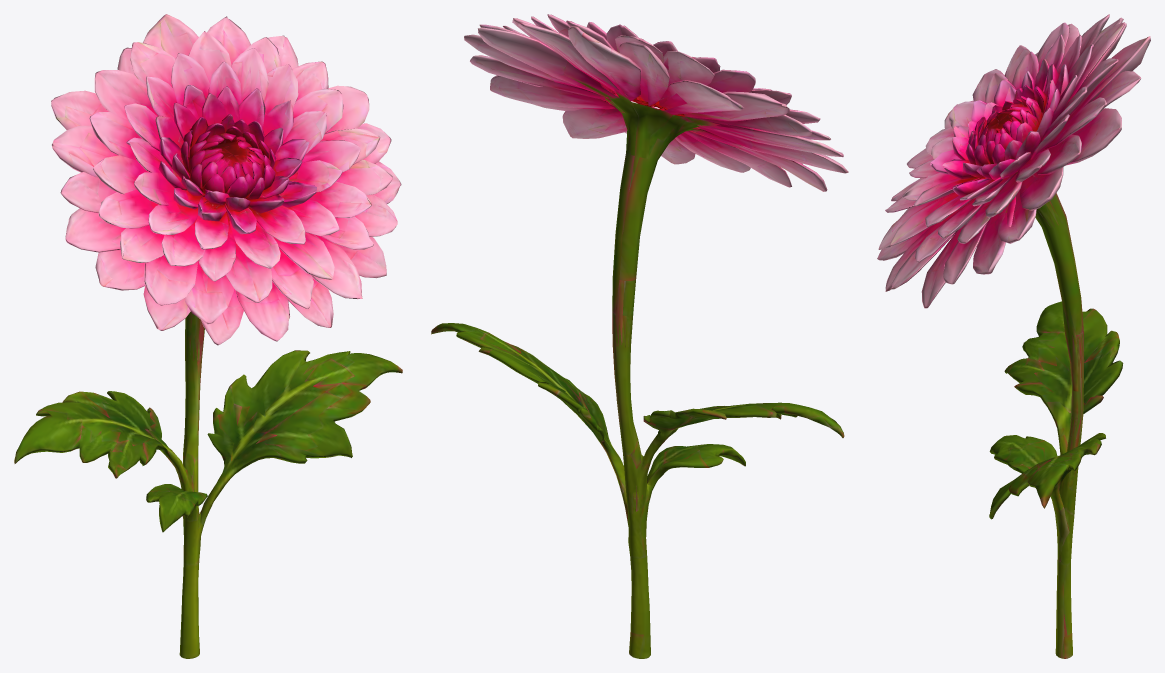
The model's file is chrysanthemum.glb.
3 renders of one model, left to right at view 1: azimuth 30°, elevation 25°; view 2: azimuth 150°, elevation 25°; view 3: azimuth 270°, elevation 25°, orthographic. The views are drawn at different scales.
Visible parts, largest first — view 1: geometry_0; view 2: geometry_0; view 3: geometry_0.
Part boxes in pixels (<box>): geometry_0: <box>14,14,402,658</box>; geometry_0: <box>431,14,848,658</box>; geometry_0: <box>877,14,1150,658</box>.
Bounding box in the file's own units: 0.6313 × 0.9517 × 0.3765.
1 material, 1 textured.
